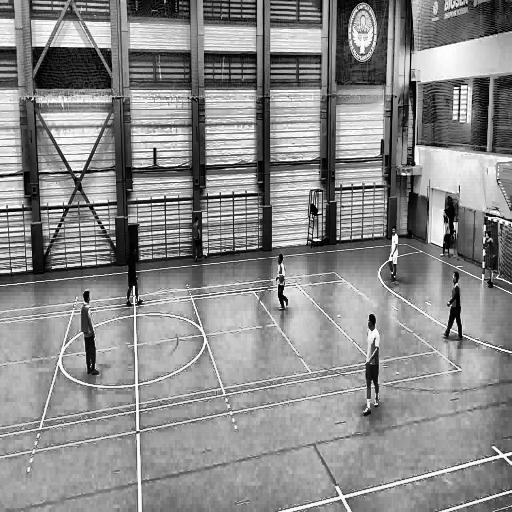ball: (203, 251, 209, 261)
player: (363, 314, 382, 420), (80, 289, 102, 379), (442, 271, 464, 344), (124, 240, 144, 307), (386, 222, 402, 284), (274, 253, 290, 313), (484, 230, 499, 292), (190, 212, 204, 264), (440, 209, 452, 261)
